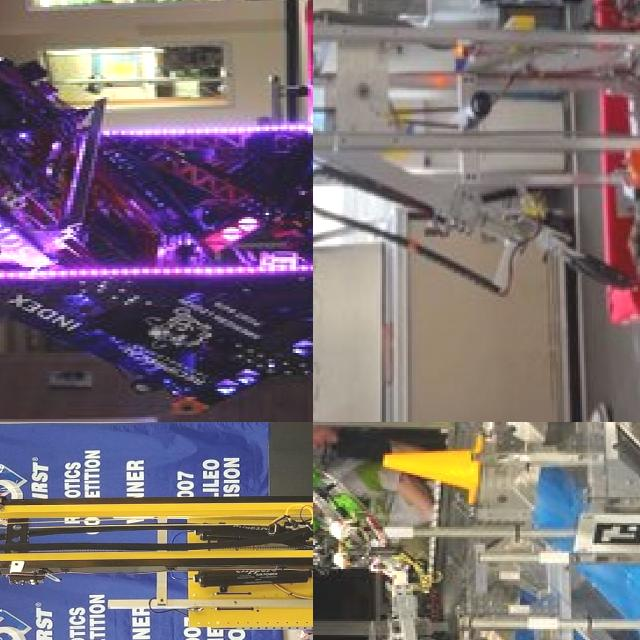FRC-Robots: (0, 0, 313, 422), (313, 0, 640, 354), (0, 438, 313, 640), (338, 590, 640, 640)
